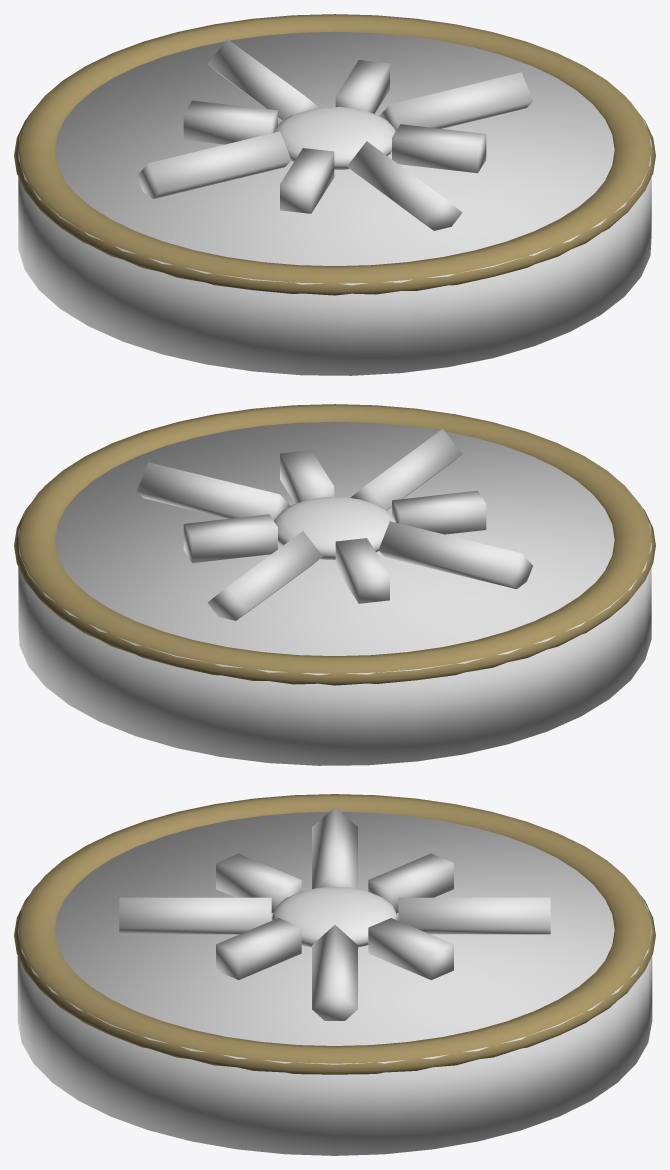
File: marker_demolition.glb
3 views of the same model, one above another, from view 1: azimuth 30°, elevation 25°; view 2: azimuth 150°, elevation 25°; view 3: azimuth 270°, elevation 25° (orthographic).
Visible parts, largest first — view 1: Disc, Rim, Ray4, Ray0, Core, Ray6, Ray7, Ray2, Ray3, Ray5, Ray1; view 2: Disc, Rim, Ray4, Ray0, Core, Ray2, Ray1, Ray6, Ray5, Ray3, Ray7; view 3: Disc, Rim, Ray2, Ray6, Core, Ray0, Ray1, Ray7, Ray4, Ray3, Ray5.
Part boxes in pixels (box(x1,y1,x2,y2)): Disc: box(18, 31, 651, 375); Rim: box(14, 14, 655, 295); Ray4: box(137, 131, 291, 199); Ray0: box(379, 72, 532, 130); Core: box(274, 106, 395, 169); Ray6: box(347, 141, 462, 230); Ray7: box(392, 124, 486, 173); Ray2: box(207, 39, 319, 120); Ray3: box(183, 100, 277, 144); Ray5: box(280, 148, 334, 213); Ray1: box(335, 60, 389, 113); Disc: box(18, 421, 651, 765); Rim: box(14, 404, 655, 685); Ray4: box(378, 521, 532, 589); Ray0: box(137, 462, 290, 520); Core: box(274, 496, 395, 559); Ray2: box(207, 531, 322, 620); Ray1: box(183, 514, 277, 563); Ray6: box(350, 429, 462, 510); Ray5: box(392, 490, 486, 534); Ray3: box(335, 538, 389, 603); Ray7: box(280, 450, 334, 503); Disc: box(17, 812, 652, 1155); Rim: box(14, 794, 655, 1074); Ray2: box(398, 897, 550, 934); Ray6: box(119, 897, 271, 934); Core: box(271, 886, 398, 947); Ray0: box(312, 925, 357, 1020); Ray1: box(368, 918, 453, 979); Ray7: box(216, 918, 301, 979); Ray4: box(312, 807, 357, 888); Ray3: box(368, 853, 453, 913); Ray5: box(216, 853, 301, 913).
Size of the model in its own units: 0.506 by 0.108 by 0.506.
